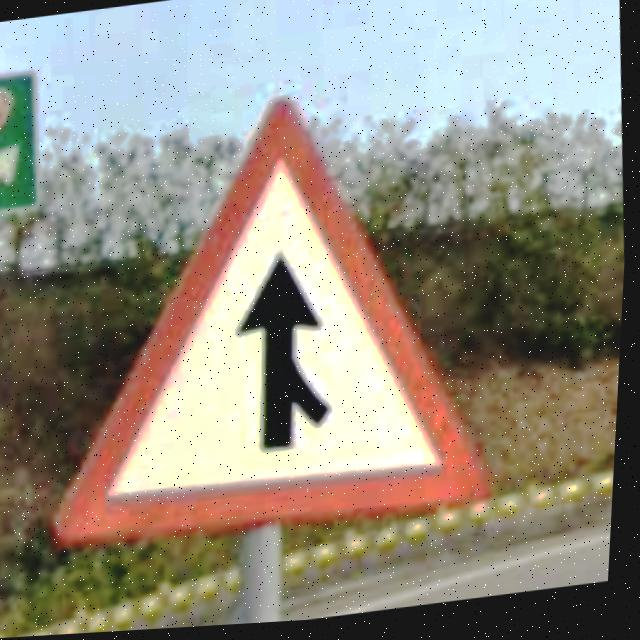rightmerge: (60, 102, 497, 545)
